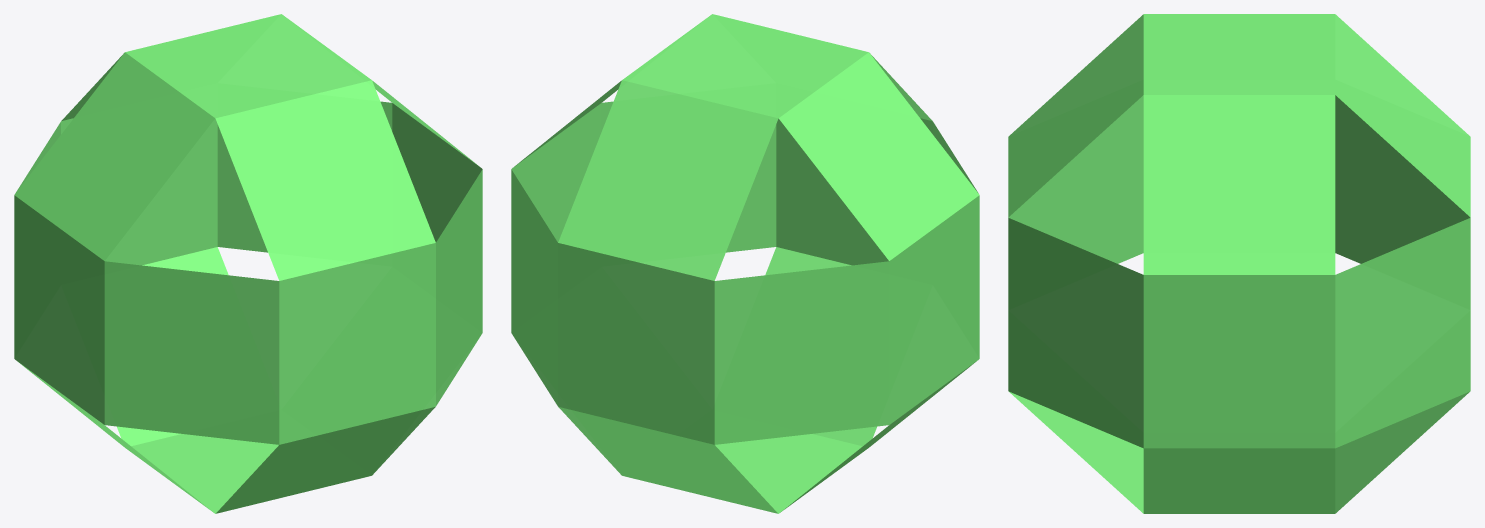
File: RhombicuboctahedronA1.obj
3 views of the same model, side by side, from view 1: azimuth 30°, elevation 25°; view 2: azimuth 150°, elevation 25°; view 3: azimuth 270°, elevation 25° (orthographic). The views are drawn at different scales.
Size of the model in its own units: 2.41 by 2.41 by 2.41.
